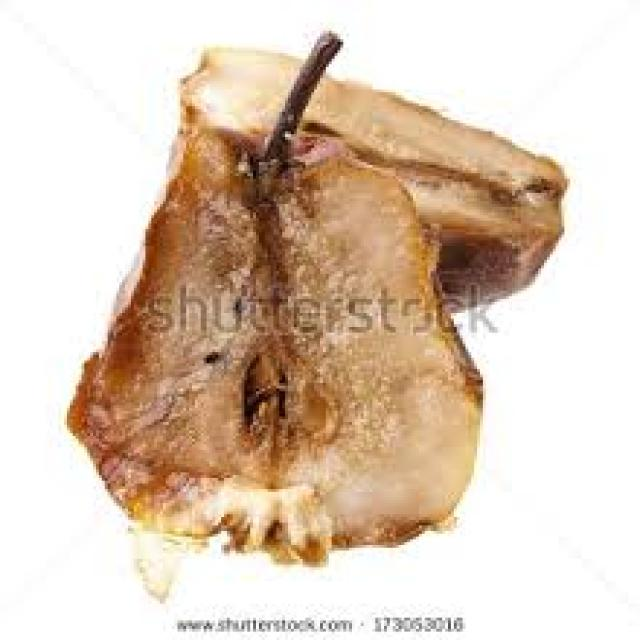food_waste: (67, 34, 564, 559)
